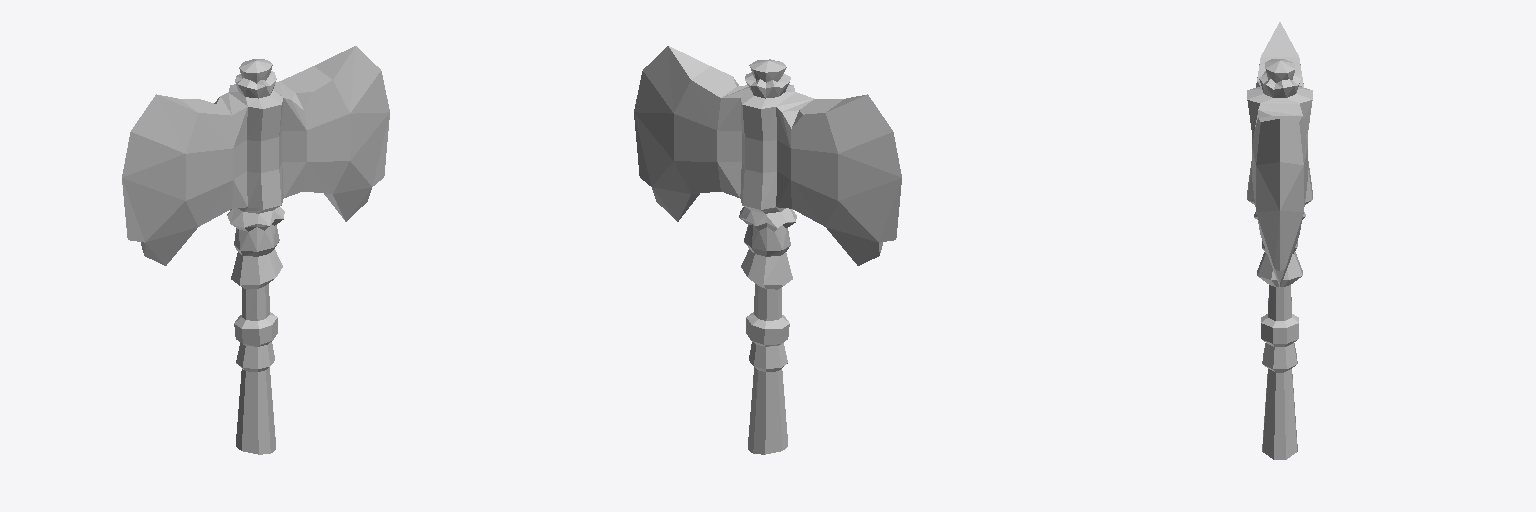
Rendered from axe_2handed.obj.
3 renders of one model, left to right at view 1: azimuth 30°, elevation 25°; view 2: azimuth 150°, elevation 25°; view 3: azimuth 270°, elevation 25°, orthographic.
Parts seen in each view (by area): view 1: axe_2handed; view 2: axe_2handed; view 3: axe_2handed.
Boxes of the visible parts, x1,y1,x2,y2 form: axe_2handed: [122, 46, 389, 454]; axe_2handed: [634, 46, 901, 454]; axe_2handed: [1247, 22, 1312, 459].
Size of the model in its own units: 1.24 by 1.72 by 0.2618.